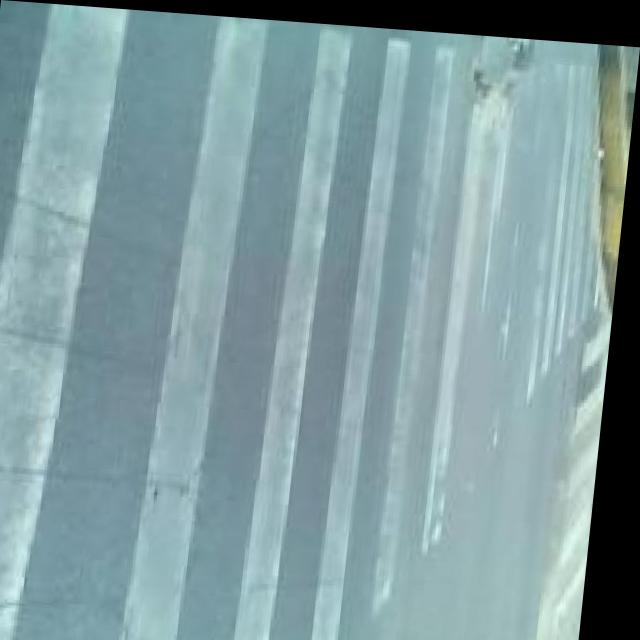zebra: (0, 23, 607, 475)
